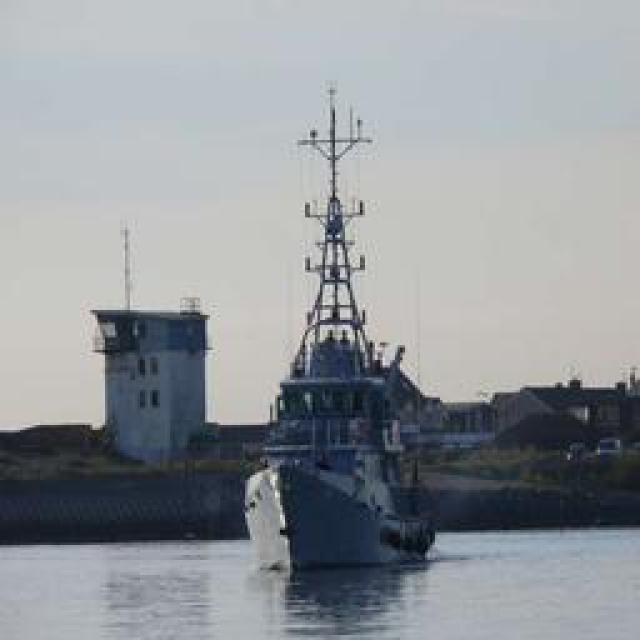Ship: (254, 85, 464, 575)
